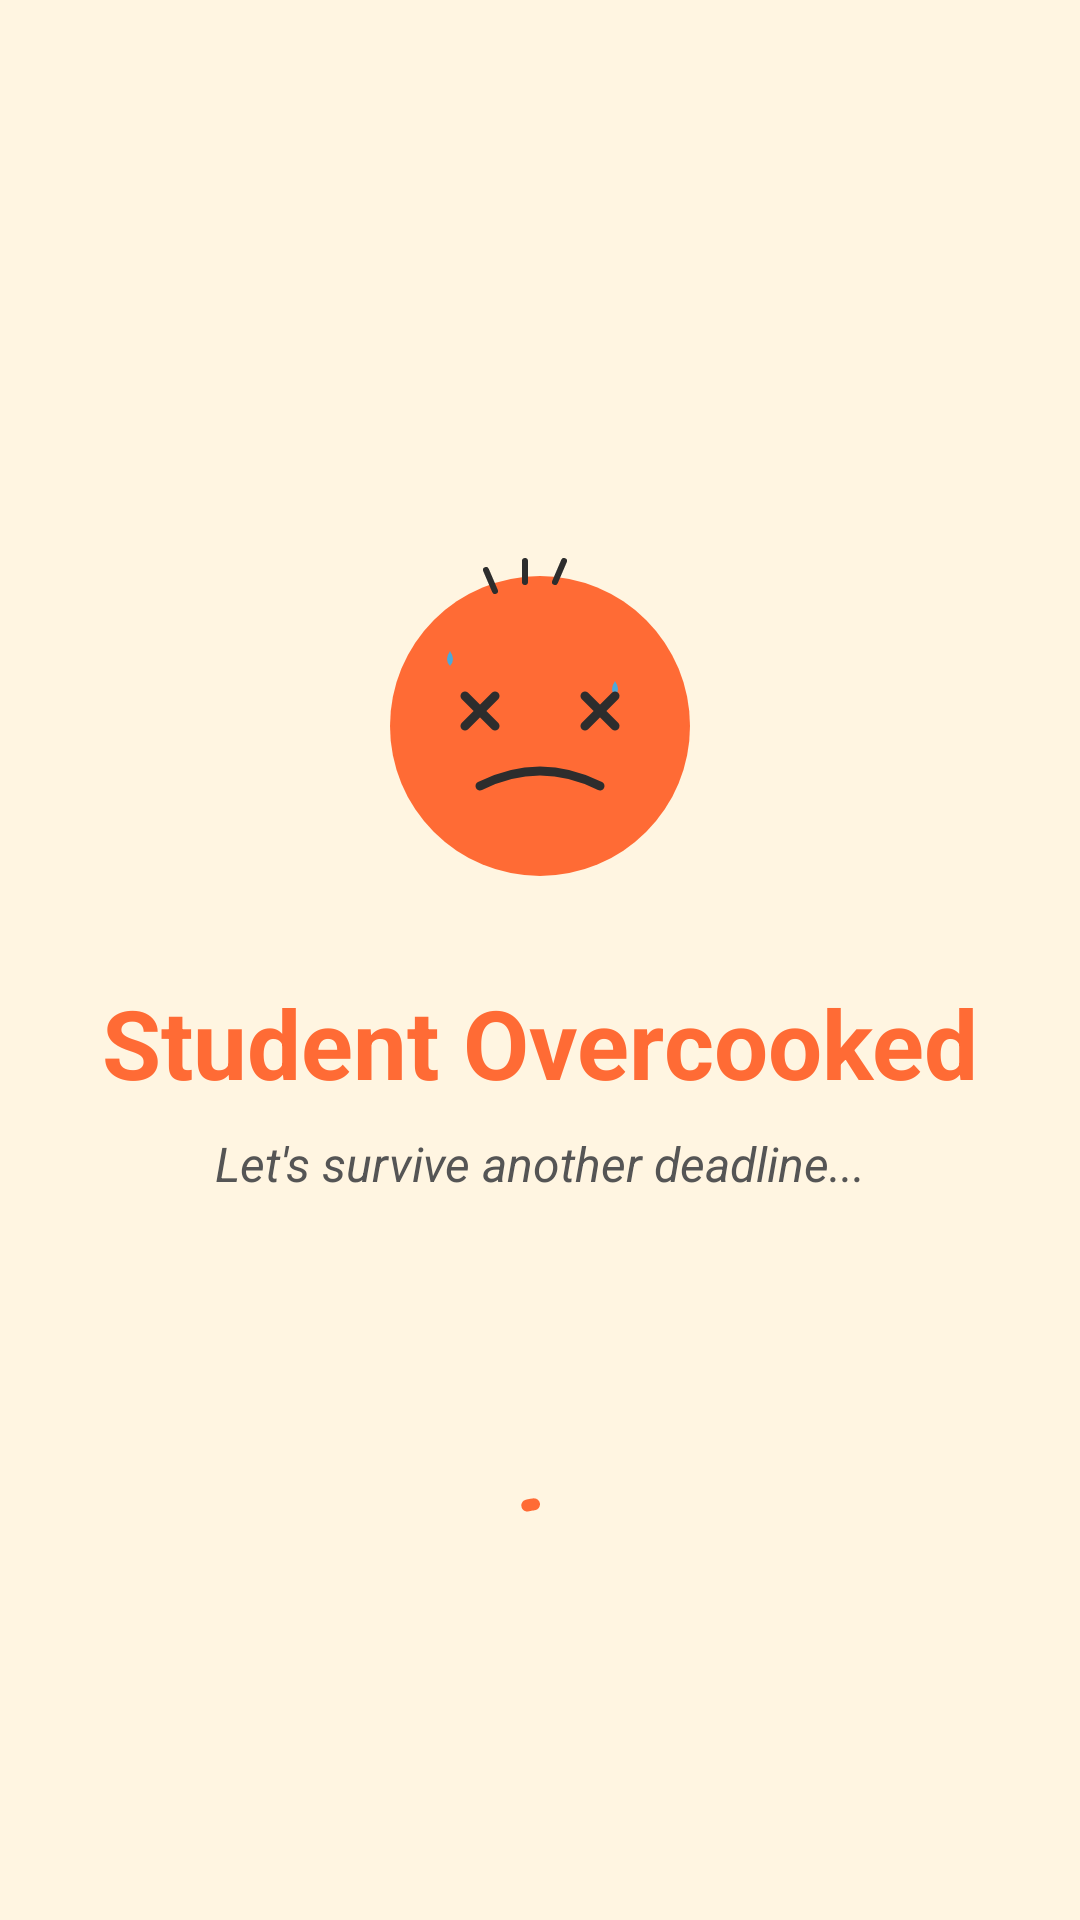

Where to tap for icons on this 1080*1920 app screen, as [x,y]:
student stressed: [540,717]
